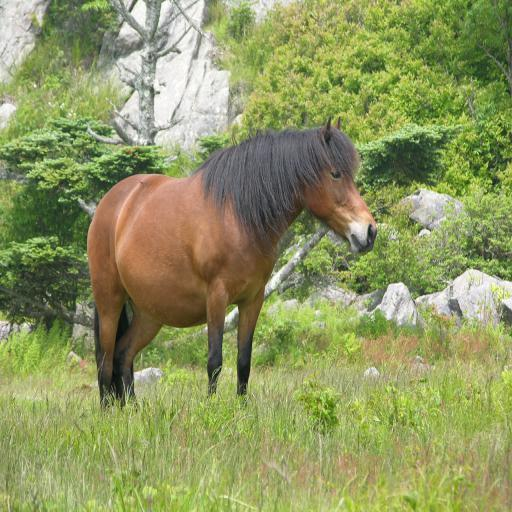horse: (84, 115, 380, 412)
